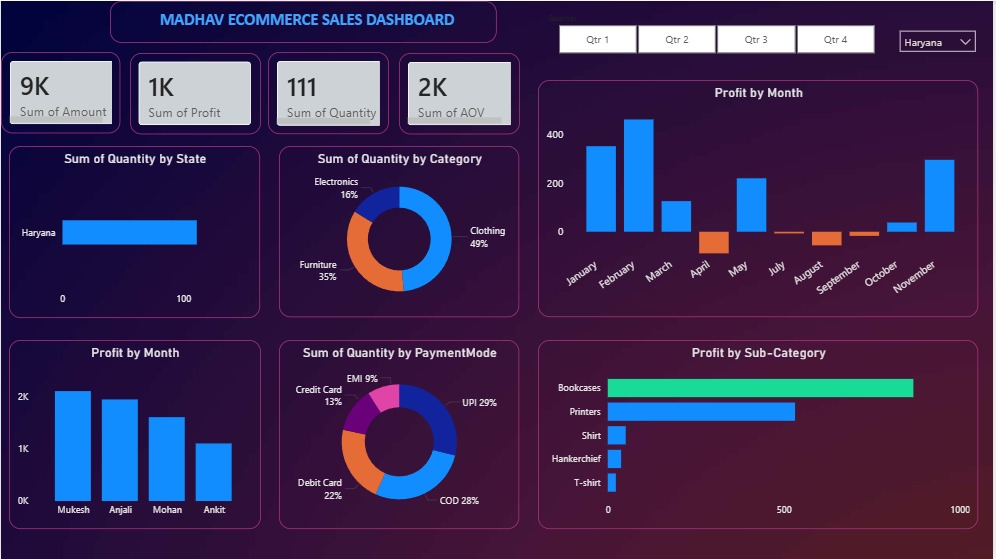

Layout of this report page (visuals, bound fields, positions):
{"tool":"powerbi","page":{"name":"Page 1","canvas":[1280,720],"ordinal":0},"visuals":[{"type":"textbox","box":[141.1,0,498.9,53.8],"z":0},{"type":"columnChart","title":"Profit by Month","fields":{"Y":["Sum(Details.Profit)"],"Category":["Orders.Order Date.Variation.Date Hierarchy.Month"]},"box":[693.1,102,568.3,306.1],"z":1000},{"type":"barChart","title":"Profit by Sub-Category","fields":{"Category":["Details.Sub-Category"],"Y":["Sum(Details.Profit)"]},"box":[693.1,438,568.3,243.8],"z":2000},{"type":"donutChart","fields":{"Y":["Sum(Details.Quantity)"],"Category":["Details.Category"]},"box":[358.6,187.1,310.4,221.1],"z":3000},{"type":"donutChart","fields":{"Y":["Sum(Details.Quantity)"],"Category":["Details.PaymentMode"]},"box":[358.6,438,310.4,243.8],"z":4000},{"type":"barChart","fields":{"Category":["Orders.State"],"Y":["Sum(Details.Quantity)"]},"box":[10.1,186.5,324.2,221.7],"z":5000},{"type":"cardVisual","fields":{"Data":["Sum(Details.Amount)"]},"box":[0,65.2,154.5,104.9],"z":6000},{"type":"columnChart","title":"Profit by Month","fields":{"Category":["Orders.CustomerName"],"Y":["Sum(Details.Amount)"]},"box":[9.9,438,324.6,243.8],"z":7000},{"type":"cardVisual","fields":{"Data":["Sum(Details.Profit)"]},"box":[165.8,66.6,168.7,104.9],"z":8000},{"type":"cardVisual","fields":{"Data":["Sum(Details.Quantity)"]},"box":[344.4,65.2,155.9,106.3],"z":9000},{"type":"cardVisual","fields":{"Data":["Sum(Details.AOV)"]},"box":[513.1,66.6,155.9,104.9],"z":10000},{"type":"slicer","fields":{"Values":["Orders.Order Date.Variation.Date Hierarchy.Quarter"]},"box":[693.8,10.1,456.9,63.8],"z":11000},{"type":"slicer","fields":{"Values":["Orders.State"]},"box":[1149.4,28.3,117.6,45.4],"z":12000}]}

Visuals, with their boxes in screenshot pixels (x1, y1, x2, y2), scaled from the page's 1280x720 canvas onto the 996x559 screenshot:
textbox: 110:0:498:42
"Profit by Month" columnChart: 539:79:982:317
"Profit by Sub-Category" barChart: 539:340:982:529
donutChart - Sum(Details.Quantity) x Details.Category: 279:145:521:317
donutChart - Sum(Details.Quantity) x Details.PaymentMode: 279:340:521:529
barChart - Orders.State x Sum(Details.Quantity): 8:145:260:317
cardVisual - Sum(Details.Amount): 0:51:120:132
"Profit by Month" columnChart: 8:340:260:529
cardVisual - Sum(Details.Profit): 129:52:260:133
cardVisual - Sum(Details.Quantity): 268:51:389:133
cardVisual - Sum(Details.AOV): 399:52:521:133
slicer - Orders.Order Date.Variation.Date Hierarchy.Quarter: 540:8:895:57
slicer - Orders.State: 894:22:986:57
